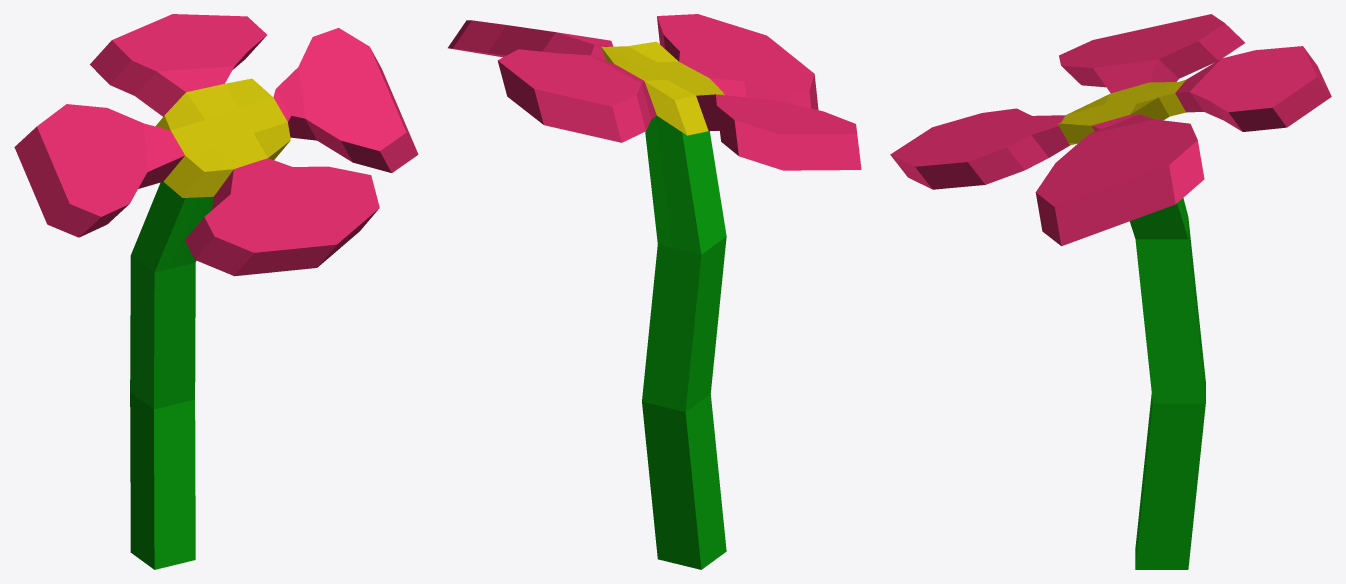
The model's file is Flower.fbx.
The picture shows the model from 3 angles, left to right: view 1: azimuth 30°, elevation 25°; view 2: azimuth 150°, elevation 25°; view 3: azimuth 270°, elevation 25°; orthographic projection. The views are drawn at different scales.
Parts seen in each view (by area): view 1: Flor; view 2: Flor; view 3: Flor.
Part boxes in pixels (left/top/right/bottom): Flor: left=14, top=14, right=418, bottom=569; Flor: left=448, top=14, right=861, bottom=569; Flor: left=890, top=14, right=1331, bottom=569.
Bounding box in the file's own units: 9.87 × 12.27 × 9.36.
